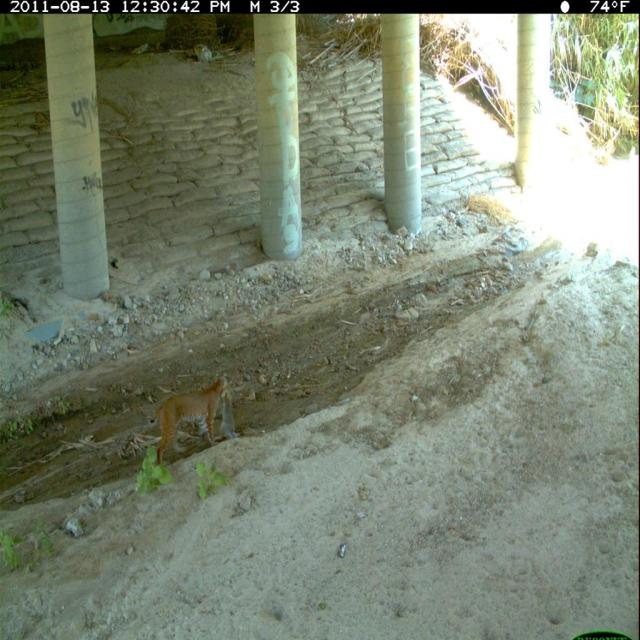bobcat: (154, 370, 238, 473)
rabbit: (216, 385, 239, 449)
